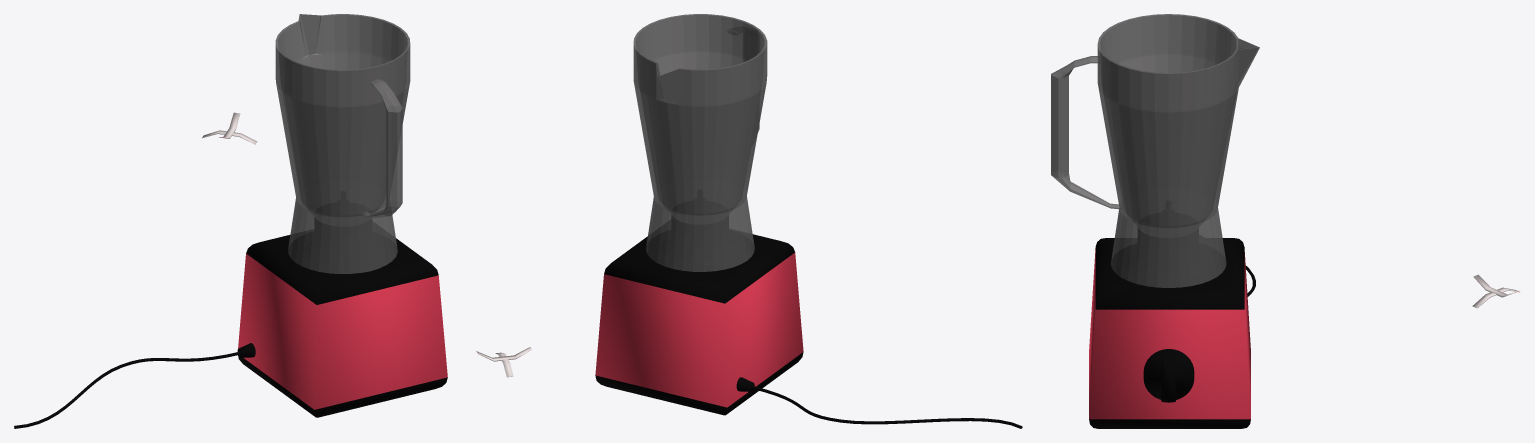
Rendered from Bestestblender.fbx.
3 views of the same model, side by side, from view 1: azimuth 30°, elevation 25°; view 2: azimuth 150°, elevation 25°; view 3: azimuth 270°, elevation 25° (orthographic). The views are drawn at different scales.
Visible parts, largest first — view 1: Blender, Wire, Blender.001; view 2: Blender, Wire; view 3: Blender.
Part boxes in pixels (x1,y1,x2,y2): Blender: (237, 14, 447, 417); Wire: (14, 351, 240, 428); Blender.001: (202, 112, 257, 144); Blender: (595, 14, 803, 415); Wire: (751, 386, 1022, 428); Blender: (1051, 14, 1259, 428).
Size of the model in its own units: 603 by 476 by 570.
